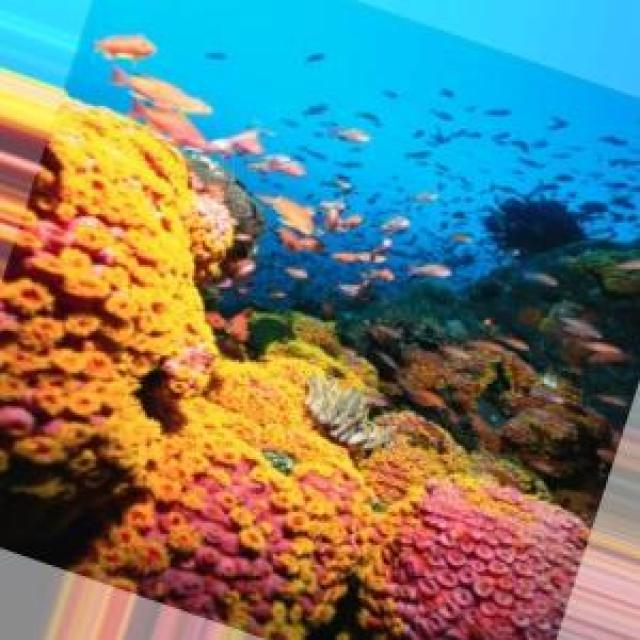healthy coral: (0, 71, 585, 638)
